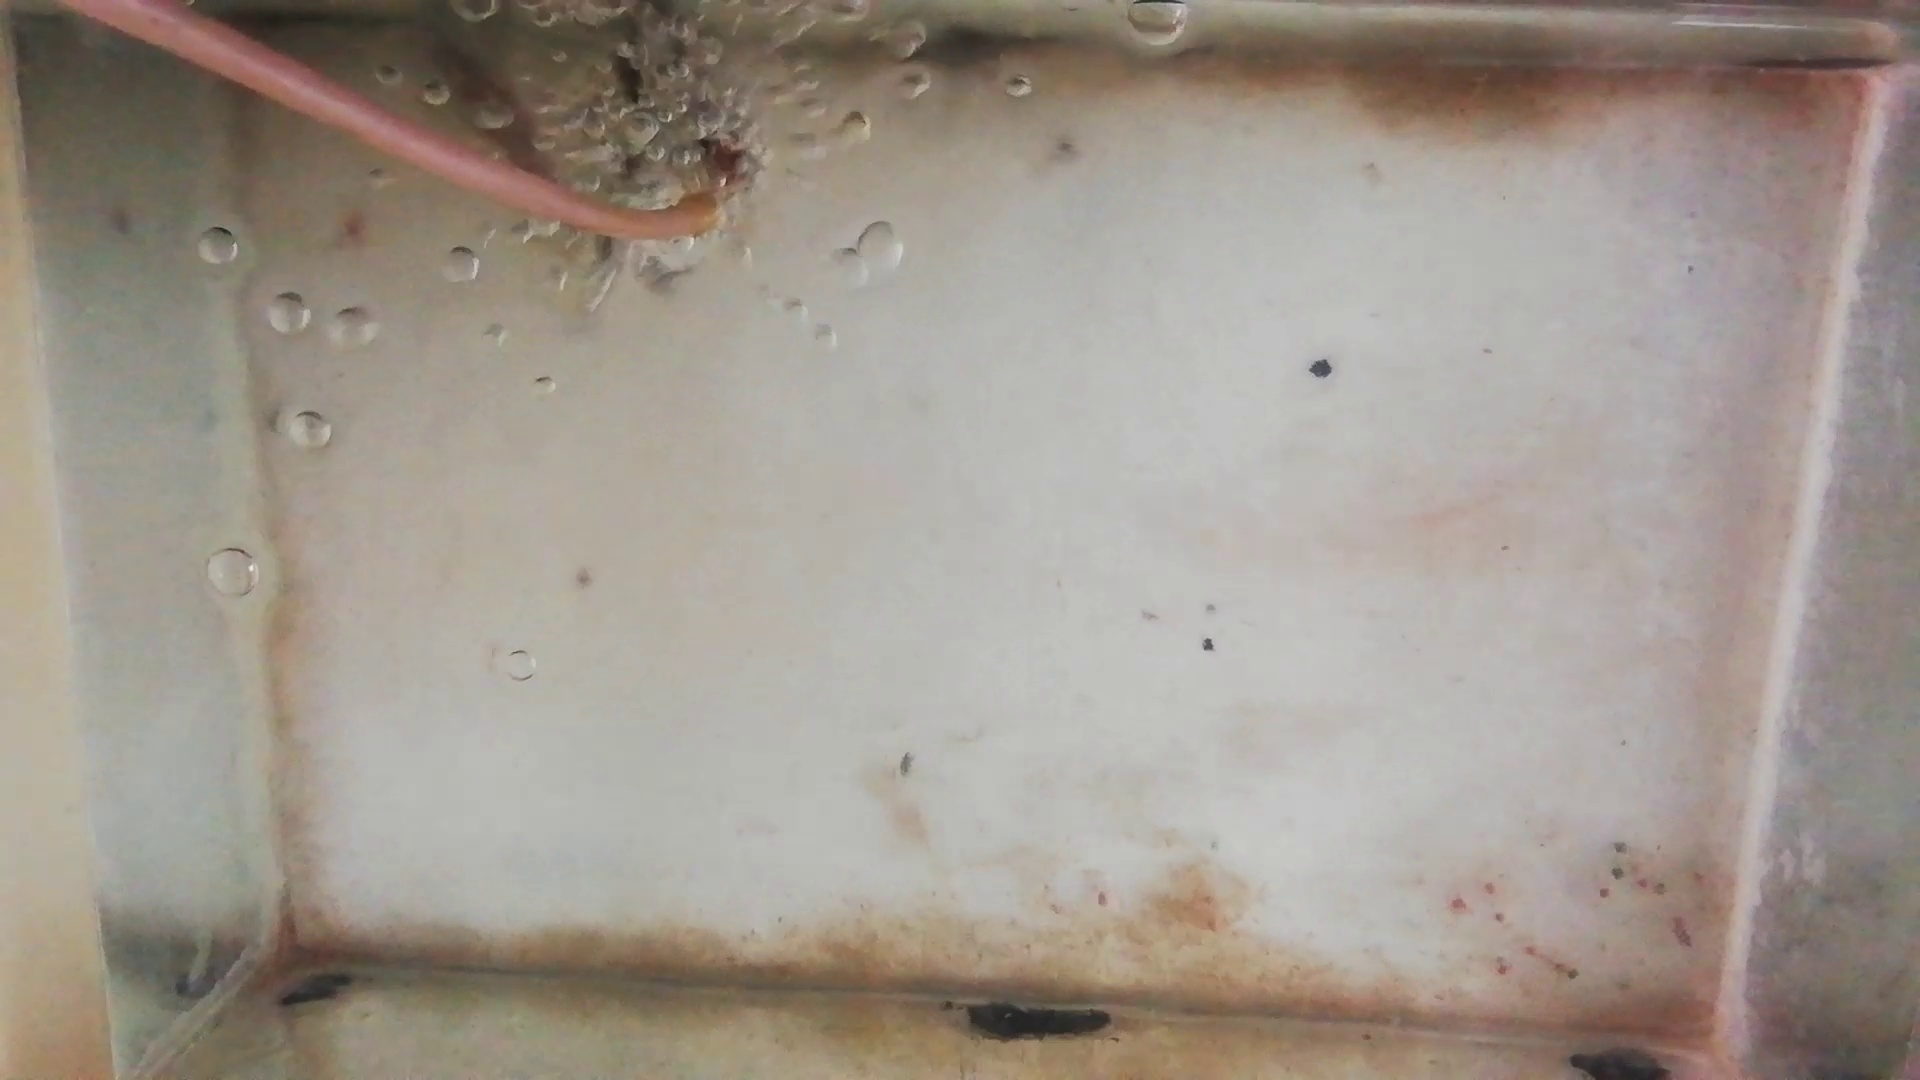fish: (407, 22, 549, 170), (597, 36, 647, 280)
